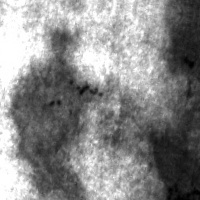patches: (0, 22, 110, 199), (135, 96, 199, 199), (159, 13, 199, 100)
